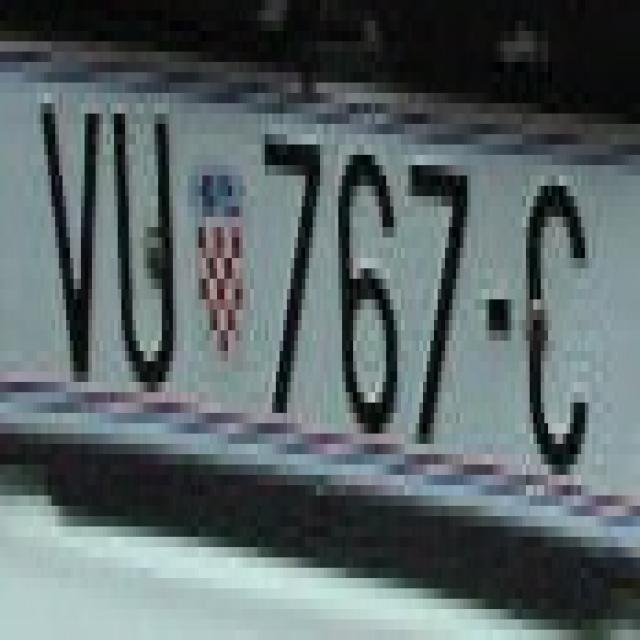6: (331, 134, 394, 444)
7: (404, 134, 468, 464), (261, 103, 320, 423)
C: (522, 155, 600, 475)
U: (106, 92, 176, 392)
V: (33, 82, 99, 382)
